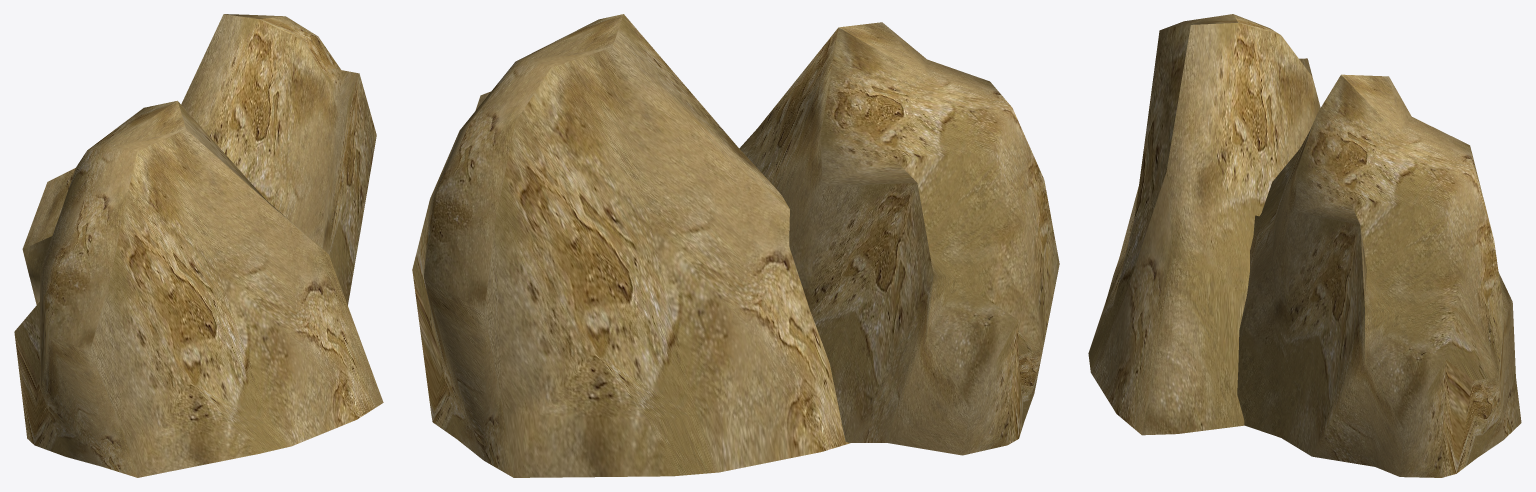
The model's file is tunnel_block_cave_big.fbx.
The picture shows the model from 3 angles, left to right: view 1: azimuth 30°, elevation 25°; view 2: azimuth 150°, elevation 25°; view 3: azimuth 270°, elevation 25°; orthographic projection. The views are drawn at different scales.
Visible parts, largest first — view 1: Rocks_157, Rocks_156; view 2: Rocks_156, Rocks_157; view 3: Rocks_156, Rocks_157.
Part boxes in pixels (x1,y1,x2,y2): Rocks_157: (14, 100, 383, 477); Rocks_156: (181, 14, 376, 305); Rocks_156: (412, 14, 850, 477); Rocks_157: (739, 22, 1059, 455); Rocks_156: (1237, 74, 1521, 477); Rocks_157: (1088, 14, 1320, 435).
Bounding box in the file's own units: 10034 × 7503 × 8514.
1 material, 1 textured.
